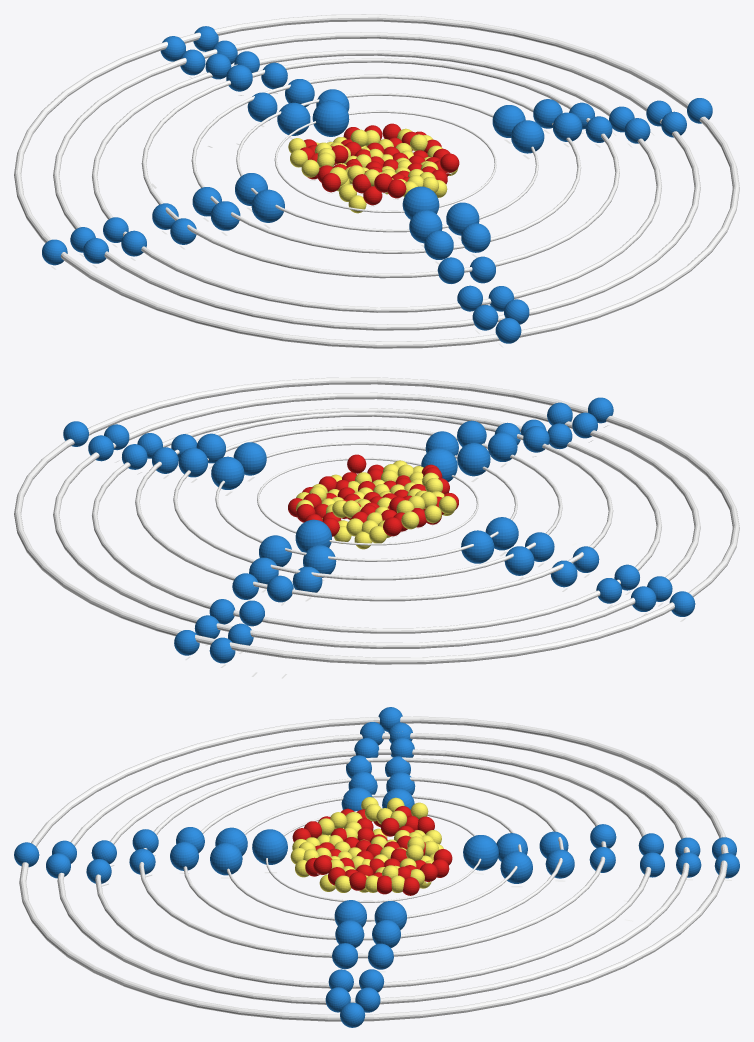
The picture shows the model from 3 angles, top to bottom: view 1: azimuth 30°, elevation 25°; view 2: azimuth 150°, elevation 25°; view 3: azimuth 270°, elevation 25°; orthographic projection. The views are drawn at different scales.
Visible parts, largest first — view 1: Torus.007, Torus.006, Torus.005, Torus.004, Torus.003, Torus.002, Torus.001, g, g.005, g.003, g.001, g.008 (+17 smaller); view 2: Torus.007, Torus.006, Torus.005, Torus.004, Torus.003, Torus.002, Torus.001, g, g.006, g.004, g.002, g.003 (+31 smaller); view 3: Torus.007, Torus.006, Torus.005, Torus.004, Torus.003, Torus.002, g.001, g, Torus.001, g.007, g.009, g.015 (+9 smaller).
Boxes of the visible parts, left/top/right/bottom form: Torus.007: left=14, top=14, right=739, bottom=348; Torus.006: left=53, top=32, right=700, bottom=330; Torus.005: left=92, top=50, right=661, bottom=312; Torus.004: left=141, top=58, right=619, bottom=278; Torus.003: left=191, top=74, right=581, bottom=253; Torus.002: left=236, top=93, right=538, bottom=232; Torus.001: left=274, top=110, right=496, bottom=212; g: left=312, top=100, right=349, bottom=136; g.005: left=511, top=120, right=544, bottom=153; g.003: left=251, top=189, right=284, bottom=222; g.001: left=402, top=186, right=439, bottom=219; g.008: left=277, top=102, right=310, bottom=135; Torus.007: left=14, top=377, right=739, bottom=664; Torus.006: left=53, top=392, right=700, bottom=648; Torus.005: left=92, top=408, right=661, bottom=633; Torus.004: left=135, top=412, right=613, bottom=601; Torus.003: left=173, top=426, right=562, bottom=580; Torus.002: left=215, top=442, right=517, bottom=561; Torus.001: left=257, top=457, right=478, bottom=545; g: left=295, top=519, right=331, bottom=552; g.006: left=457, top=443, right=490, bottom=476; g.004: left=211, top=456, right=244, bottom=489; g.002: left=461, top=530, right=494, bottom=563; g.003: left=485, top=517, right=518, bottom=550; Torus.007: left=19, top=716, right=728, bottom=1021; Torus.006: left=57, top=733, right=689, bottom=1004; Torus.005: left=95, top=749, right=651, bottom=988; Torus.004: left=139, top=757, right=606, bottom=958; Torus.003: left=183, top=776, right=563, bottom=940; Torus.002: left=227, top=794, right=521, bottom=921; g.001: left=252, top=829, right=287, bottom=864; g: left=463, top=835, right=498, bottom=870; Torus.001: left=265, top=811, right=481, bottom=902; g.007: left=210, top=843, right=242, bottom=875; g.009: left=500, top=851, right=532, bottom=883; g.015: left=170, top=842, right=198, bottom=870.
Bounding box in the file's own units: 20.24 × 2.92 × 20.07.
